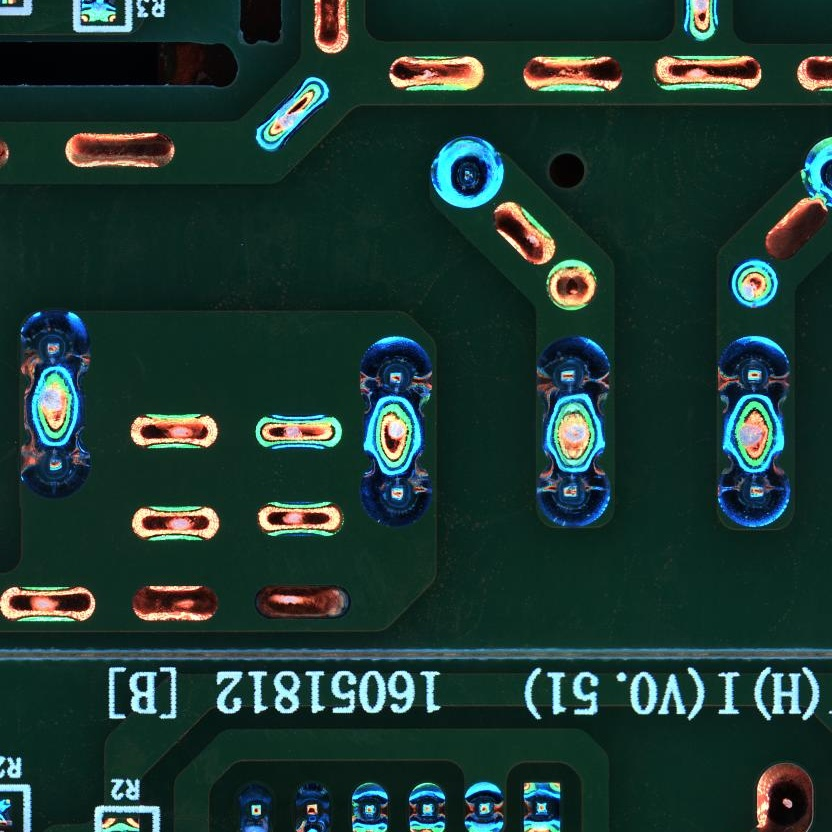spot: (712, 335, 793, 412), (358, 334, 435, 413), (16, 306, 92, 385), (428, 135, 505, 210), (535, 335, 610, 410), (15, 436, 95, 501), (535, 464, 612, 528), (716, 465, 791, 528), (360, 463, 432, 527), (727, 260, 779, 309)
